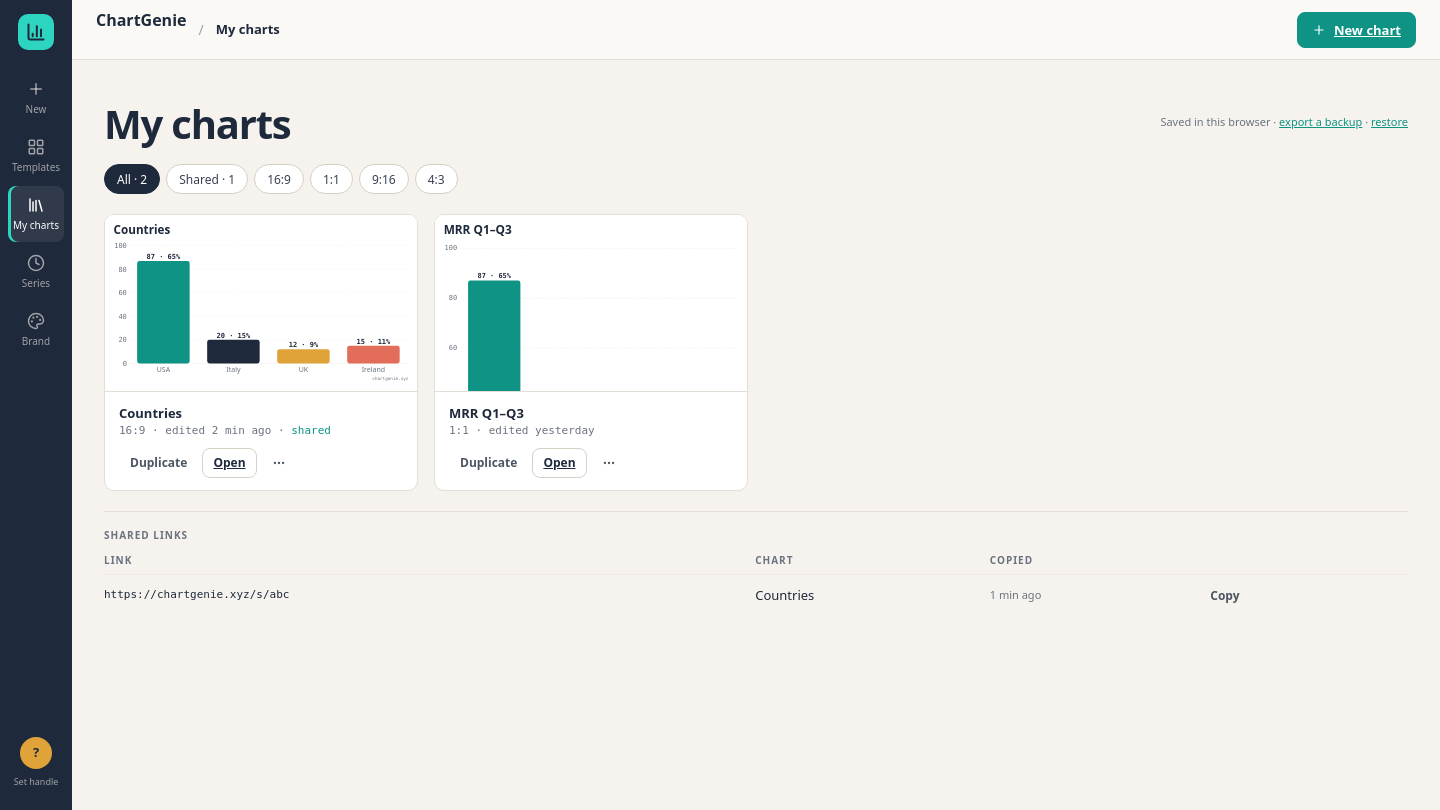
Scenario: MyCharts › Open loads the chart into the editor
This screenshot has width=1440, height=810.
Click the link "Open" below "2 min ago": (229, 462) [202,448,256,478]
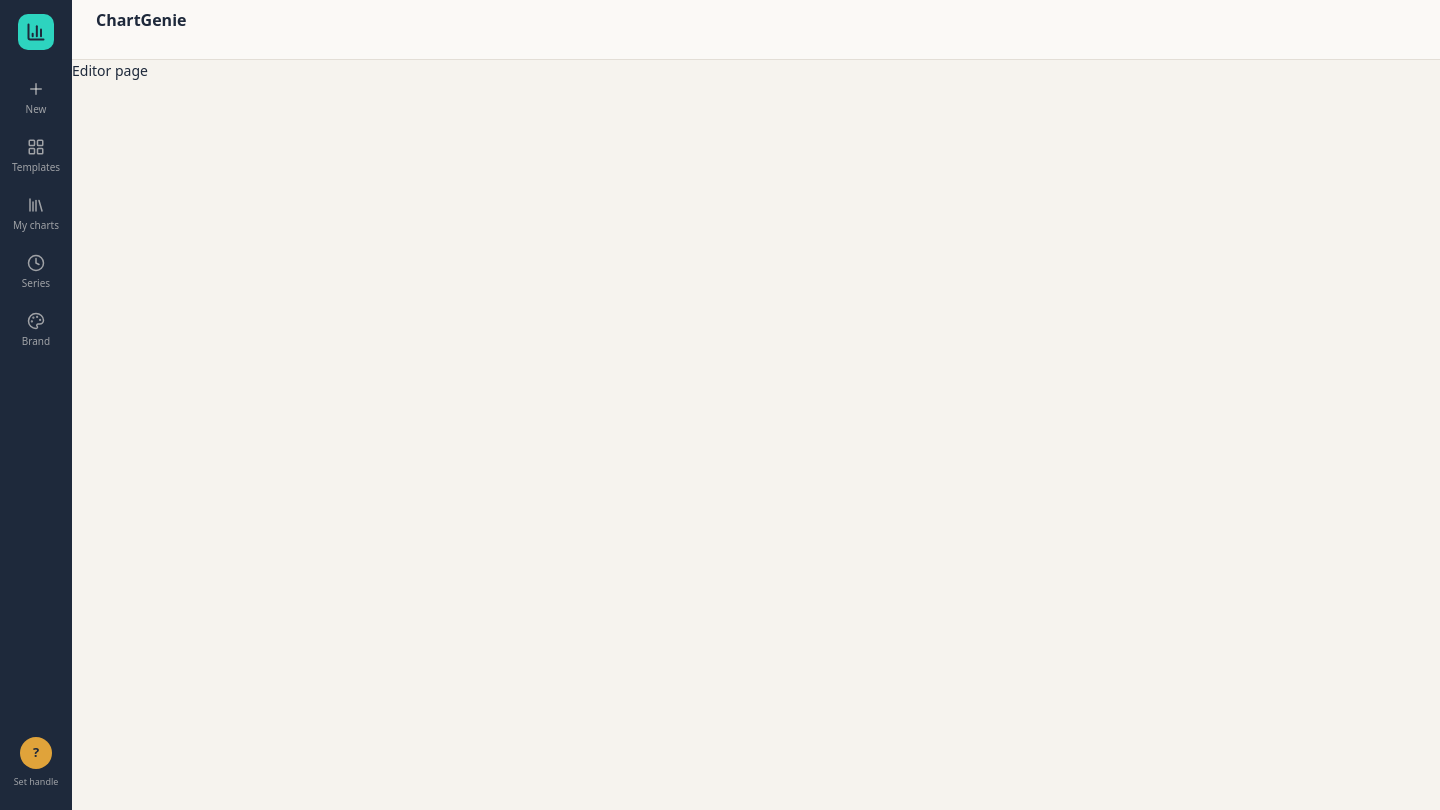
Result: the text "Editor page" is shown at [72,61,148,80]
